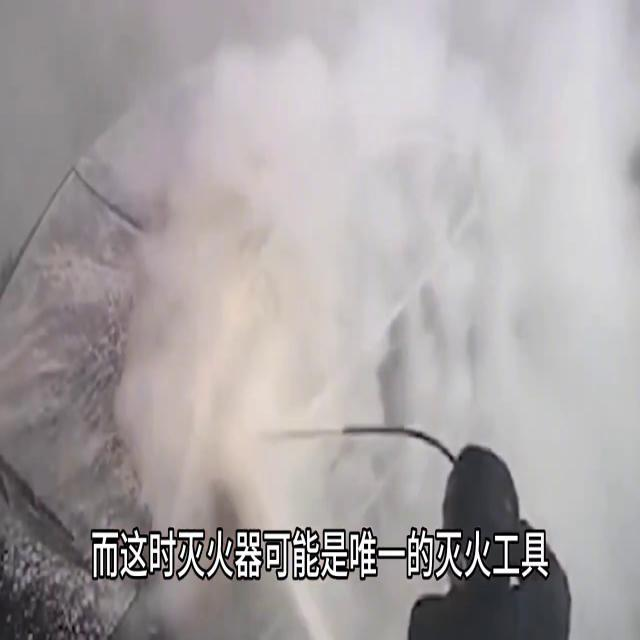Smoke: (36, 1, 640, 530)
